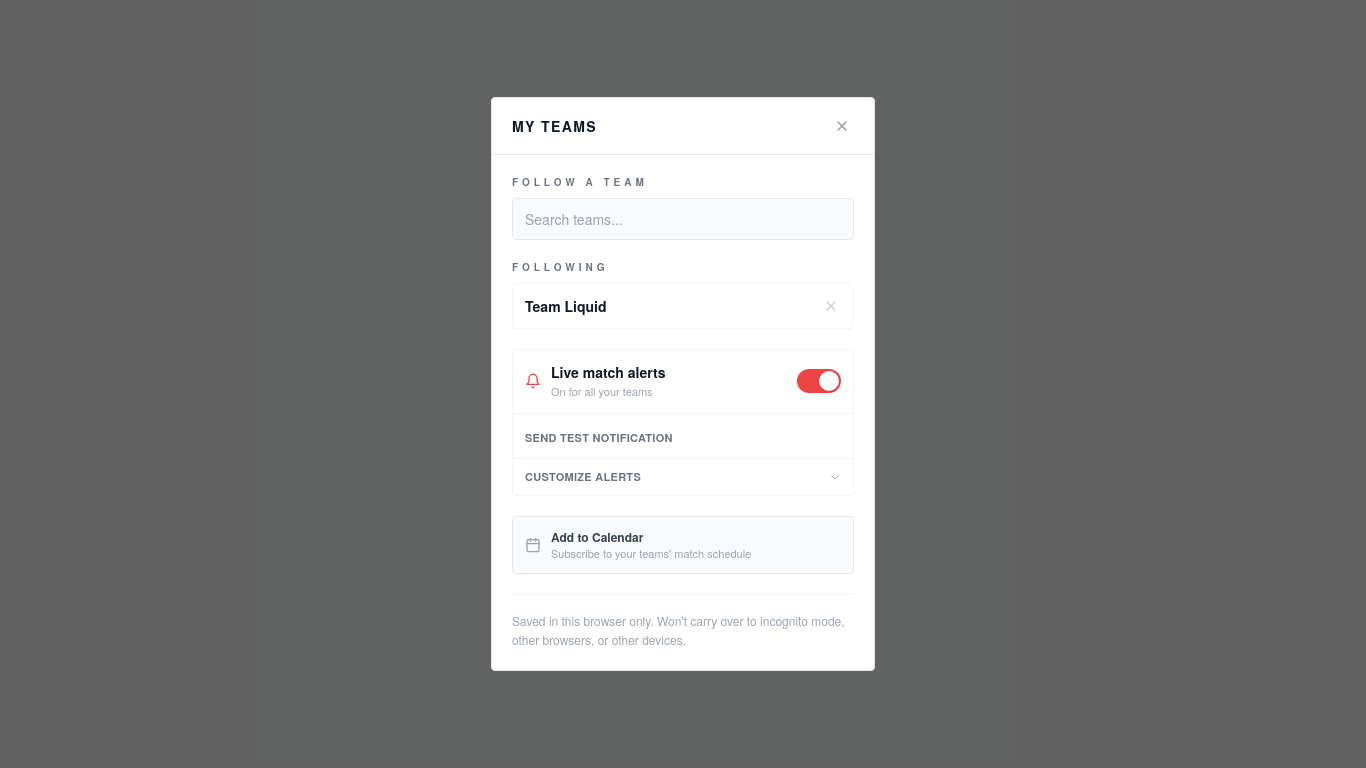
Test case: ManageTeamsModal - customize alerts › turning on Quiet hours reveals start/end pickers pre-filled with the default window, and persists
What coordinates should you click on to do the following:
click the button "Customize alerts"
I would click on:
 (583, 476)
Its box is [513,459,853,495].
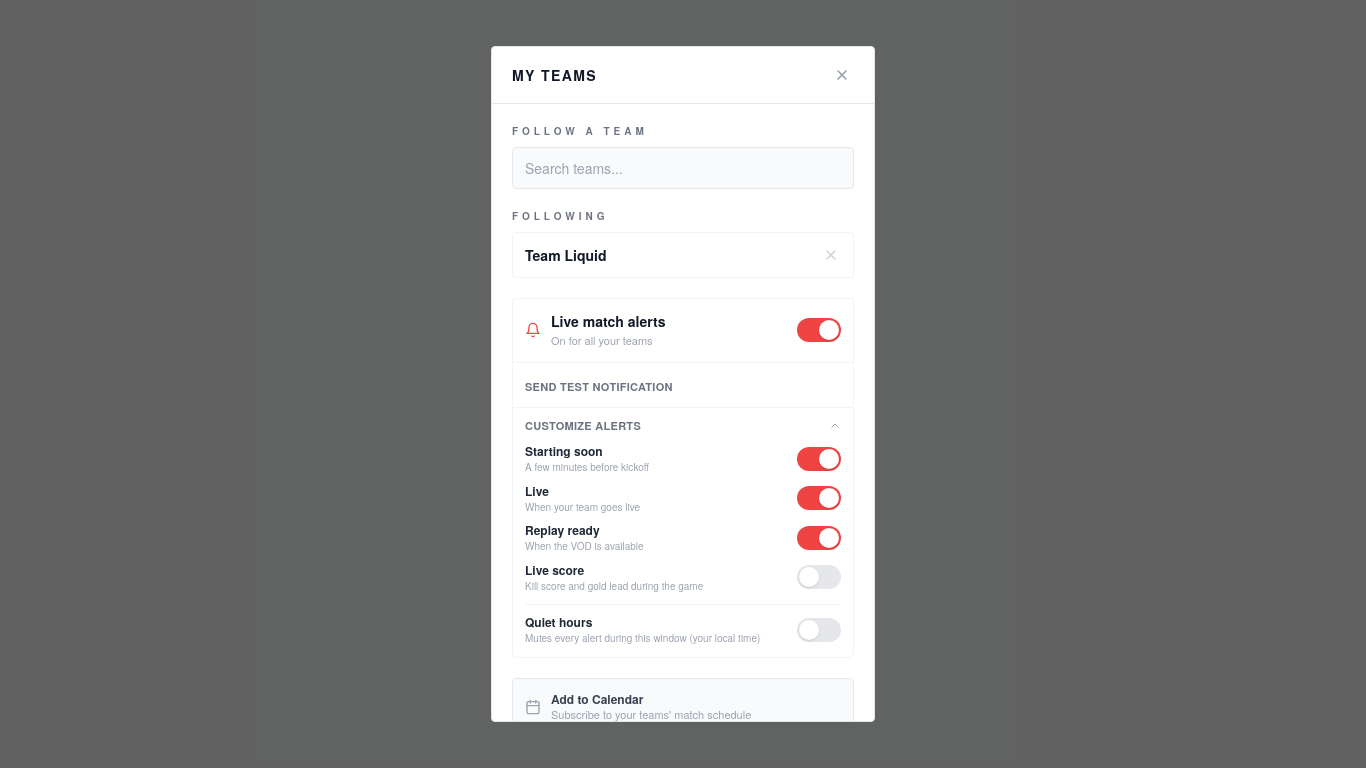
What coordinates should you click on to do the following:
click the switch named "Quiet hours"
I would click on:
 (819, 630)
Its box is [797,618,841,642].
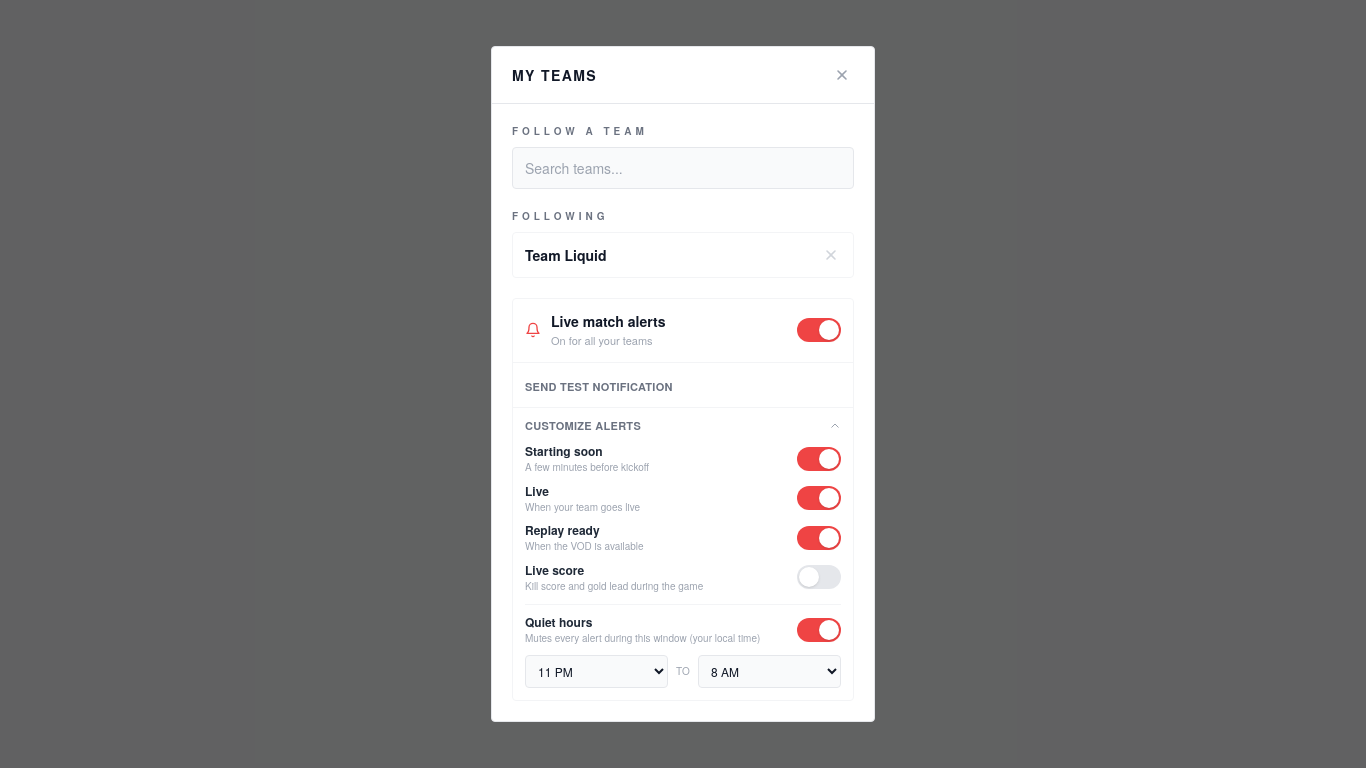
Expected: the dropdown named "Quiet hours start" shows "11 PM", [525,655,668,688]
Expected: the dropdown named "Quiet hours end" shows "8 AM", [698,655,841,688]
